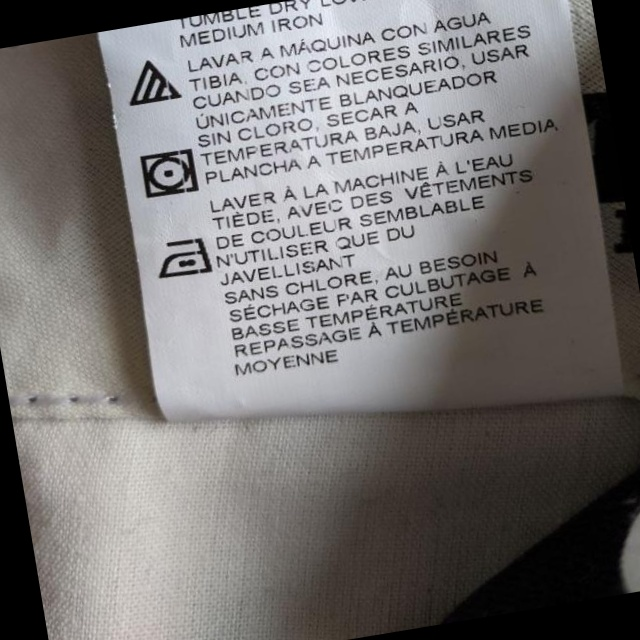iron_medium: (156, 231, 217, 281)
non_chlorine_bleach: (122, 51, 187, 115)
tumble_dry_low: (133, 143, 203, 203)
